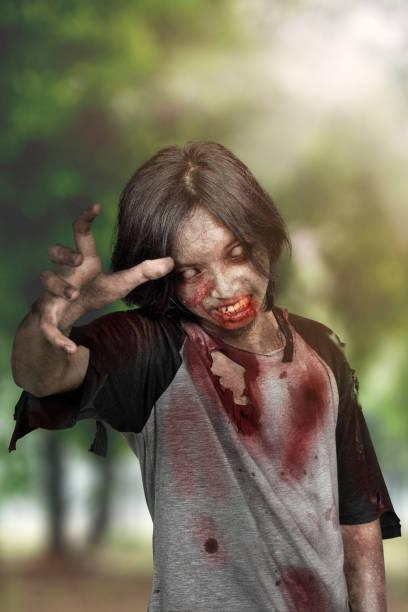Zombie: (126, 167, 289, 341)
